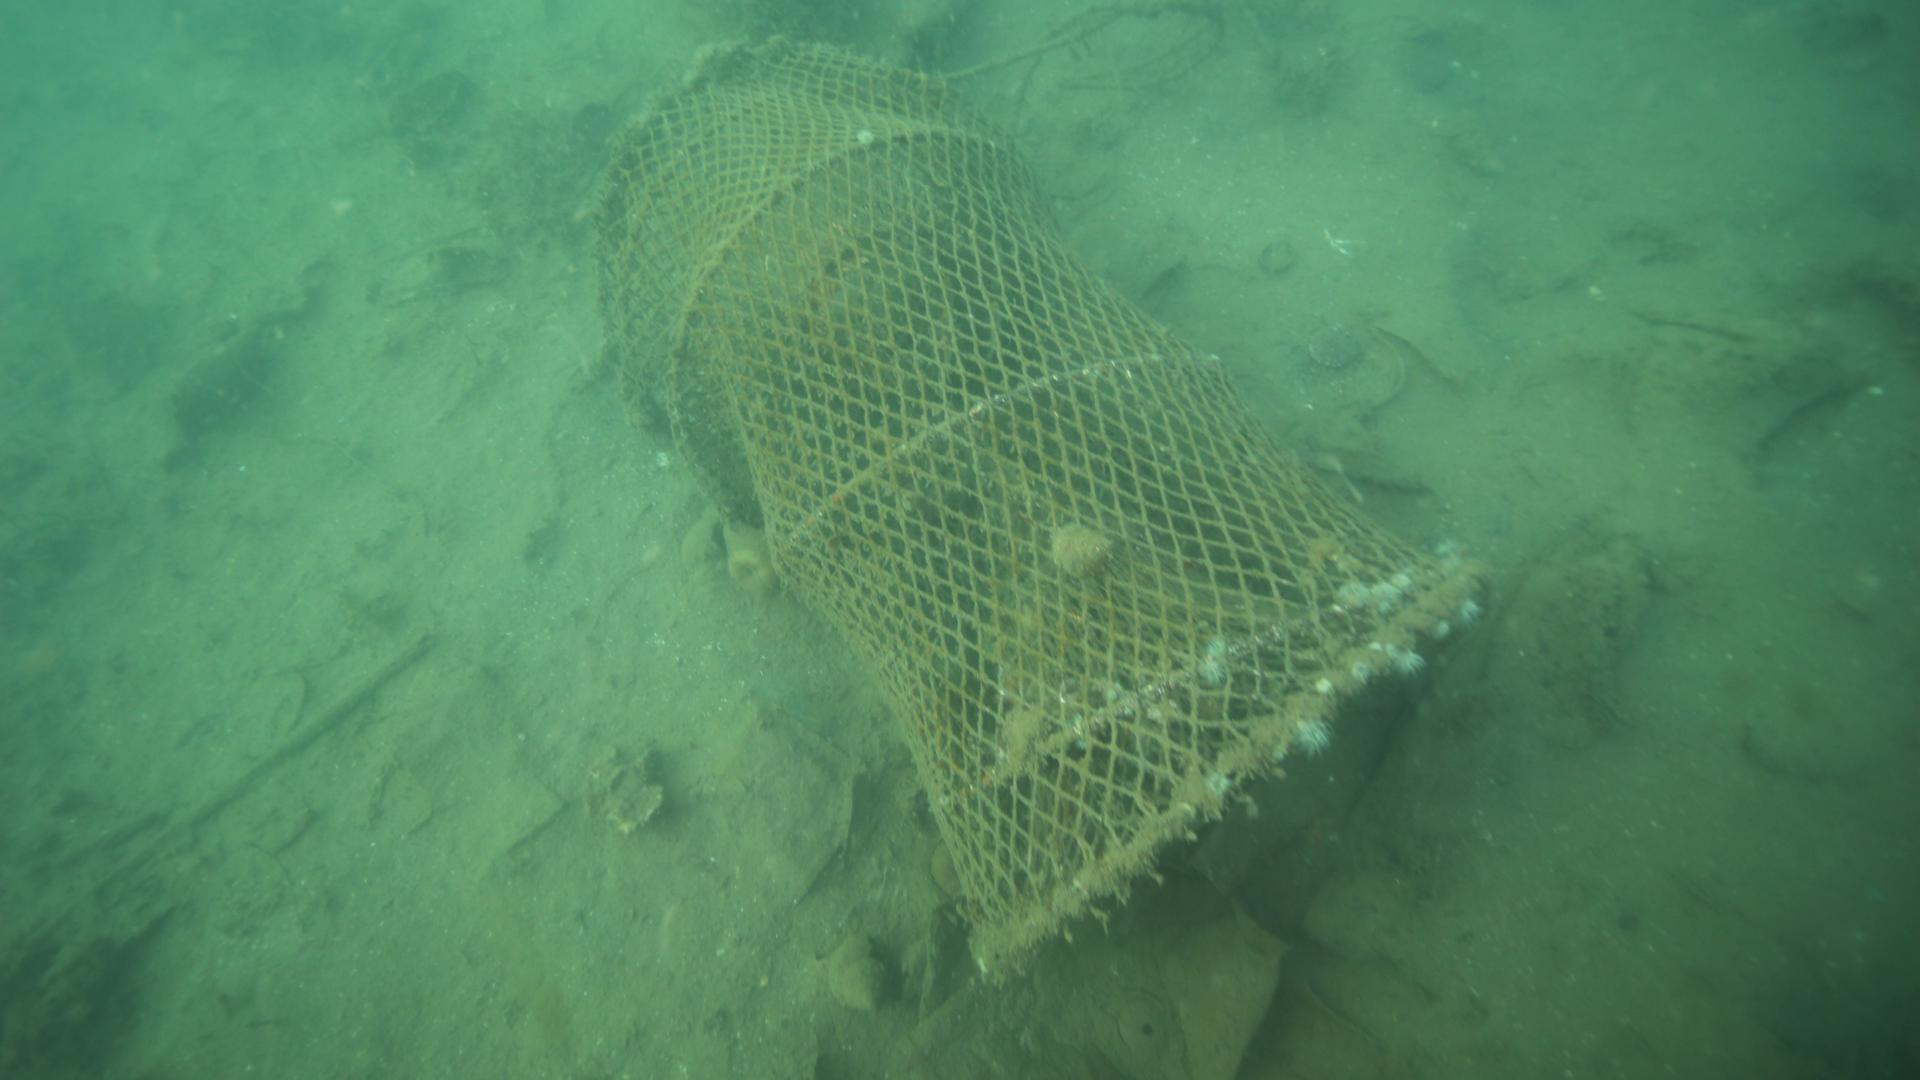spring fish trap: (576, 28, 1501, 996)
